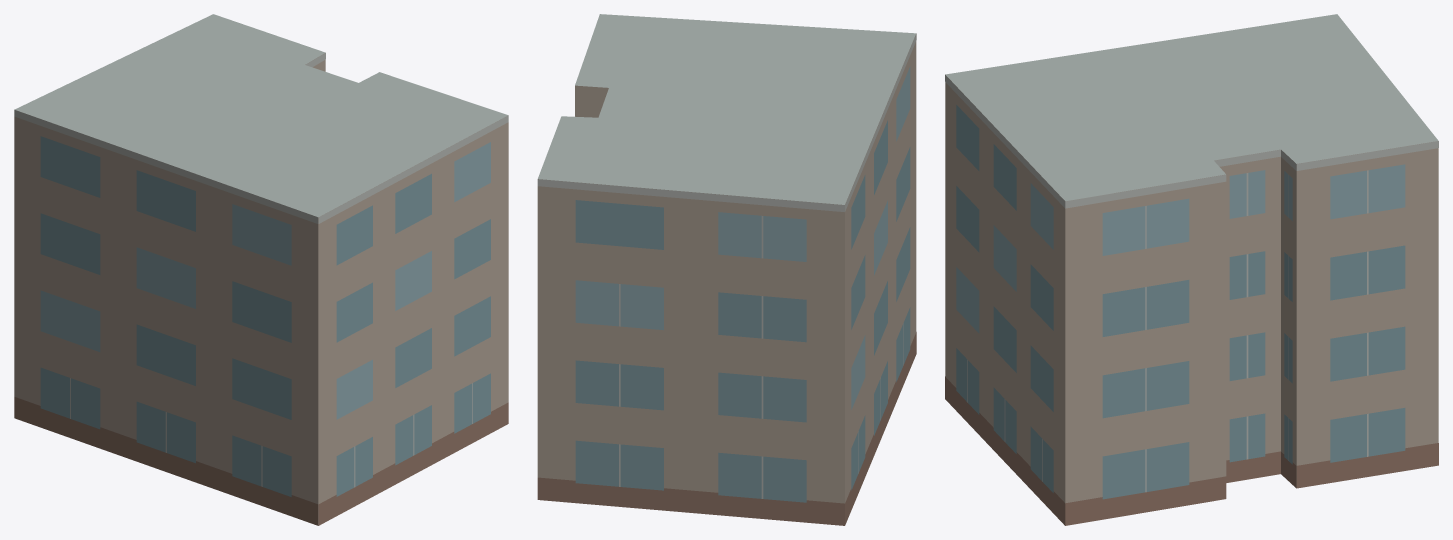
The model's file is survey-upis-32851548.glb.
3 views of the same model, side by side, from view 1: azimuth 30°, elevation 25°; view 2: azimuth 150°, elevation 25°; view 3: azimuth 270°, elevation 25° (orthographic). The views are drawn at different scales.
Parts seen in each view (by area): view 1: survey-upis-32851548.tmp; view 2: survey-upis-32851548.tmp; view 3: survey-upis-32851548.tmp.
Part boxes in pixels (box(x1,y1,x2,y2)): survey-upis-32851548.tmp: box(14, 14, 508, 525); survey-upis-32851548.tmp: box(537, 14, 916, 525); survey-upis-32851548.tmp: box(945, 14, 1438, 525).
Bounding box in the file's own units: 13.56 × 10.95 × 15.1.
